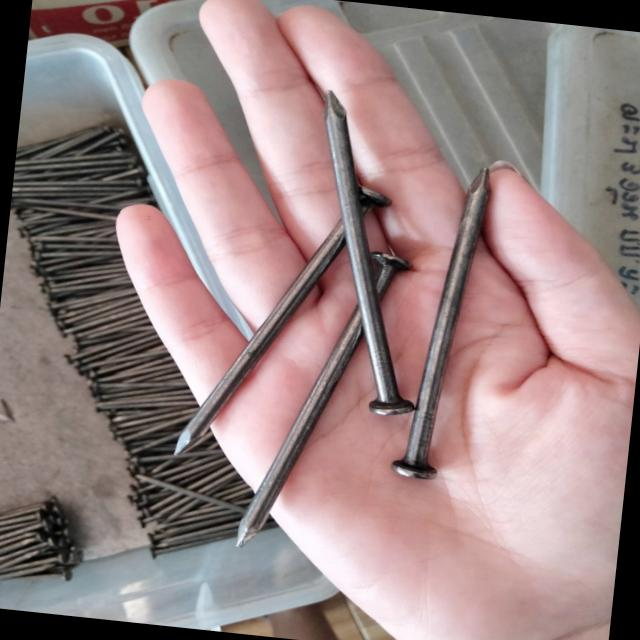3x8 nail: (255, 68, 457, 435), (374, 142, 518, 505)
